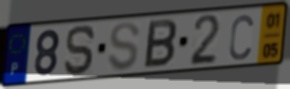2: (190, 13, 222, 68)
8: (33, 28, 60, 78)
B: (142, 18, 179, 70)
C: (227, 13, 255, 63)
S: (106, 20, 142, 73), (62, 24, 97, 77)
